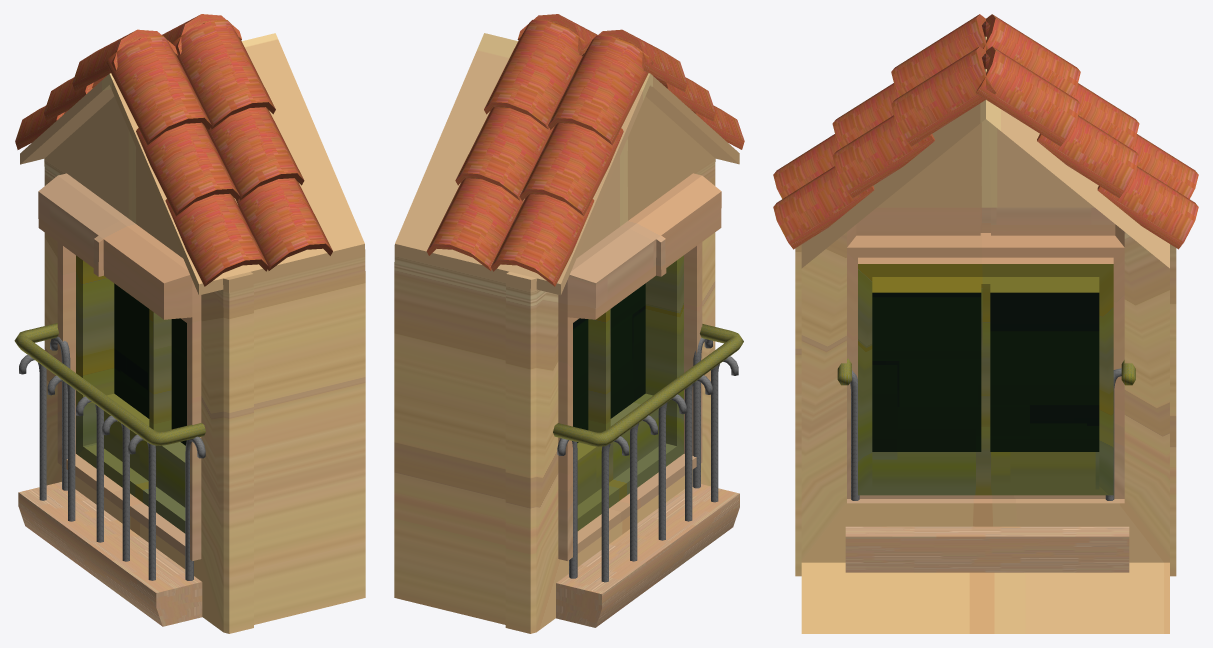
File: Window_01.fbx
3 views of the same model, side by side, from view 1: azimuth 30°, elevation 25°; view 2: azimuth 150°, elevation 25°; view 3: azimuth 270°, elevation 25° (orthographic). The views are drawn at different scales.
Parts seen in each view (by area): view 1: Window_01; view 2: Window_01; view 3: Window_01.
Boxes of the visible parts, x1,y1,x2,y2 form: Window_01: (14,14,365,633); Window_01: (394,14,744,633); Window_01: (773,14,1198,633).
Size of the model in its own units: 166 by 418 by 294.
Materials: 6 (6 with a texture image).
